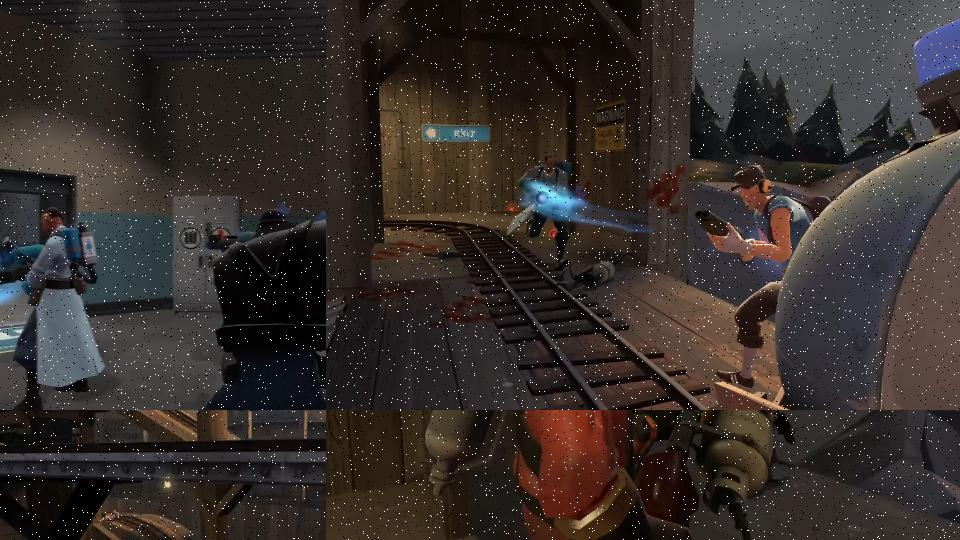Enemy: (424, 410, 799, 540), (694, 162, 832, 388), (175, 207, 326, 410), (0, 205, 128, 410), (505, 152, 574, 271)
